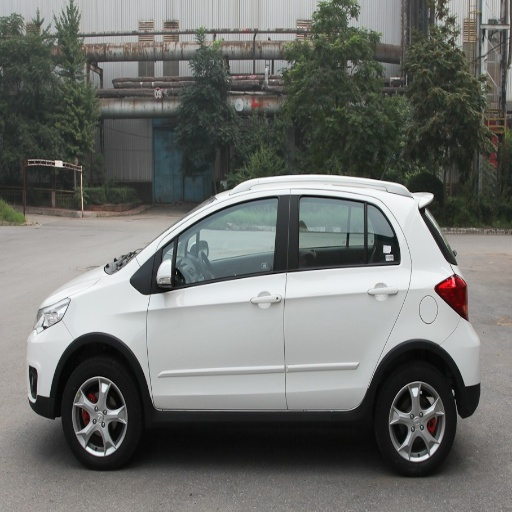back_bumper: (442, 319, 481, 391)
back_left_door: (287, 189, 408, 408)
front_left_door: (148, 191, 289, 407)
